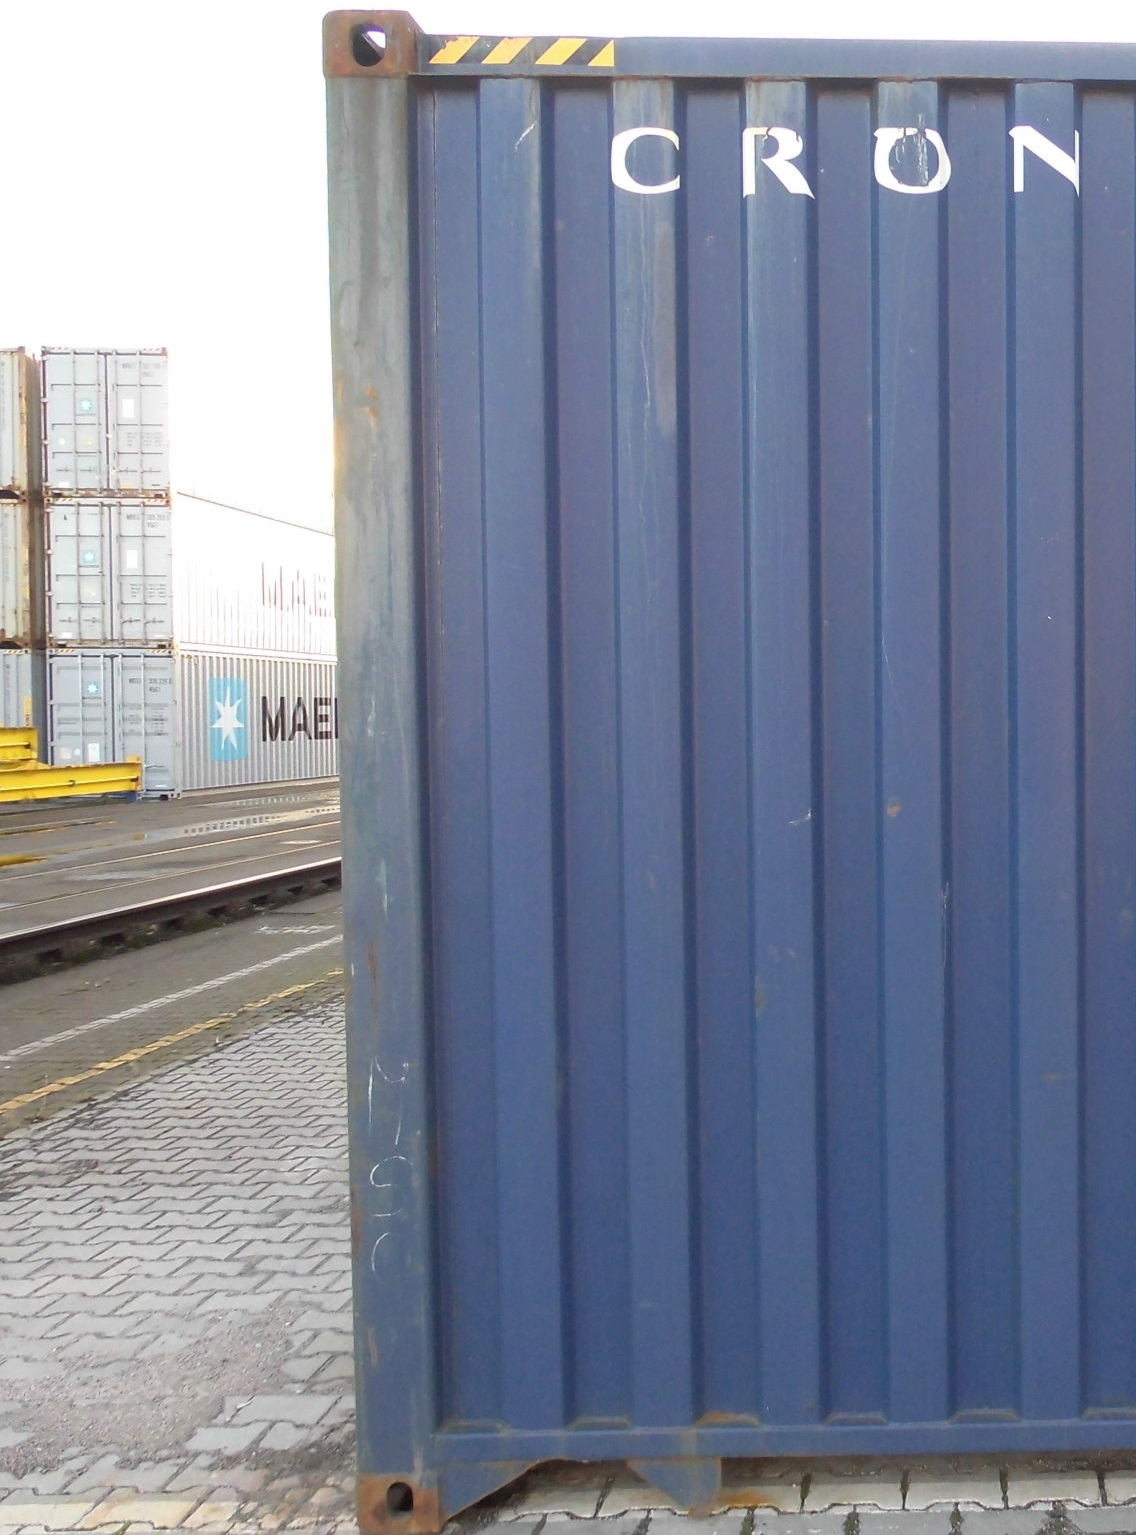container_no_door: (322, 25, 1130, 1529)
